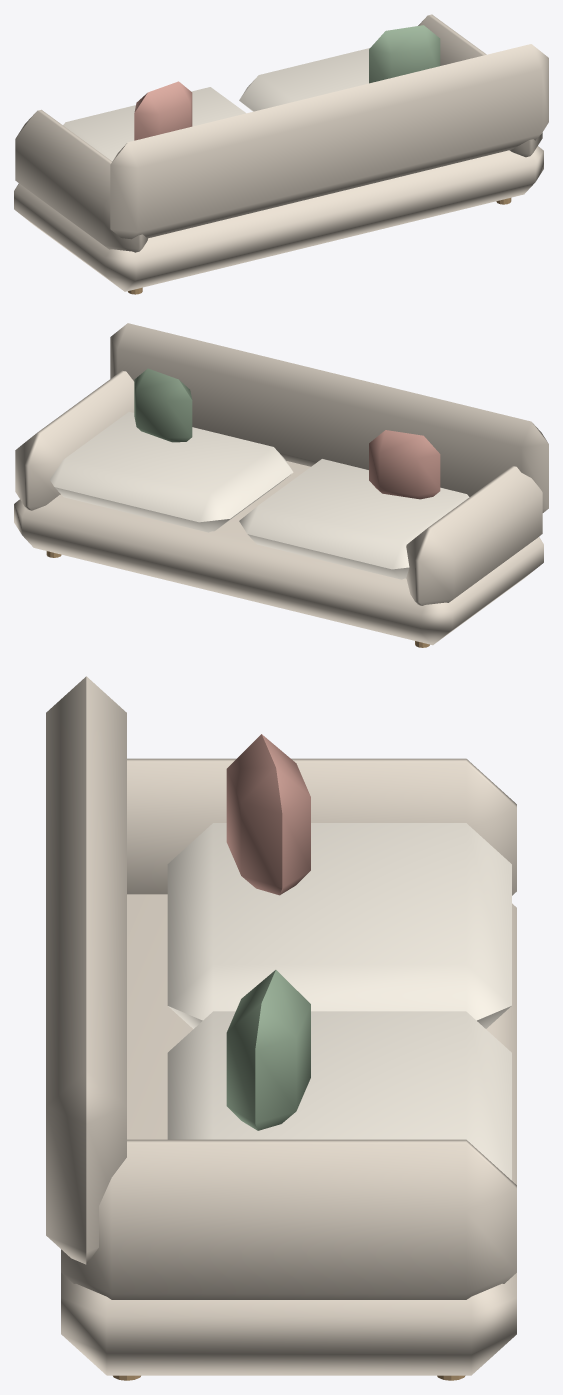
File: sofa.glb
The picture shows the model from 3 angles, top to bottom: view 1: azimuth 30°, elevation 25°; view 2: azimuth 150°, elevation 25°; view 3: azimuth 270°, elevation 25°; orthographic projection. The views are drawn at different scales.
Parts seen in each view (by area): view 1: back, base, arm_-1, cushion_1, cushion_-1, pillow_b, pillow_a, arm_1; view 2: back, base, cushion_1, cushion_-1, arm_-1, arm_1, pillow_a, pillow_b; view 3: arm_1, cushion_-1, base, back, cushion_1, arm_-1, pillow_b, pillow_a.
Boxes of the visible parts, left/top/right/bottom form: back: left=110, top=44, right=548, bottom=239; base: left=14, top=146, right=543, bottom=291; arm_-1: left=15, top=109, right=147, bottom=252; cushion_1: left=239, top=48, right=369, bottom=111; cushion_-1: left=63, top=87, right=245, bottom=161; pillow_b: left=369, top=25, right=440, bottom=83; pillow_a: left=134, top=81, right=192, bottom=140; arm_1: left=418, top=14, right=542, bottom=157; back: left=110, top=323, right=548, bottom=512; base: left=14, top=461, right=543, bottom=645; cushion_1: left=50, top=411, right=293, bottom=532; cushion_-1: left=239, top=459, right=469, bottom=579; arm_-1: left=406, top=466, right=542, bottom=605; arm_1: left=15, top=370, right=134, bottom=510; pillow_a: left=369, top=430, right=440, bottom=499; pillow_b: left=134, top=368, right=192, bottom=442; arm_1: left=61, top=1139, right=516, bottom=1299; cushion_-1: left=167, top=823, right=511, bottom=1028; base: left=61, top=894, right=516, bottom=1375; back: left=46, top=676, right=126, bottom=1264; cushion_1: left=167, top=1011, right=511, bottom=1180; arm_-1: left=127, top=758, right=516, bottom=895; pillow_b: left=226, top=970, right=310, bottom=1130; pillow_a: left=226, top=734, right=310, bottom=895.
Size of the model in its own units: 2 by 0.71 by 0.93.
